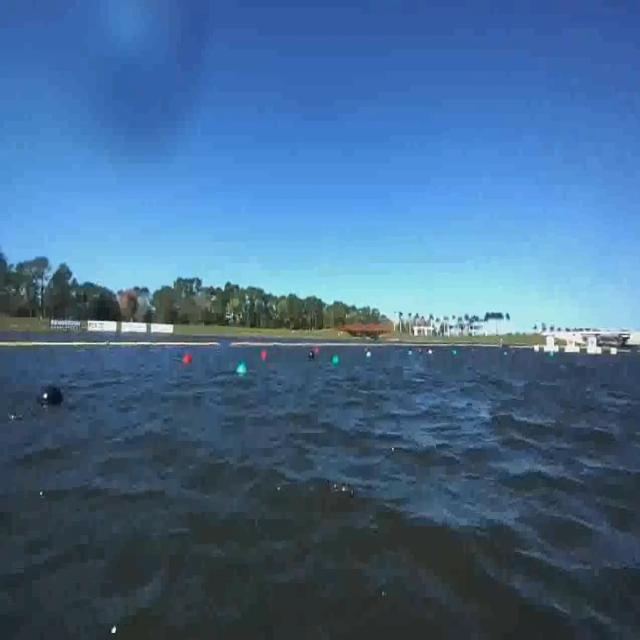black-buoy: (37, 385, 64, 406)
green-buoy: (234, 354, 253, 382), (330, 350, 340, 370)
red-buoy: (258, 344, 278, 362), (184, 354, 192, 364)
